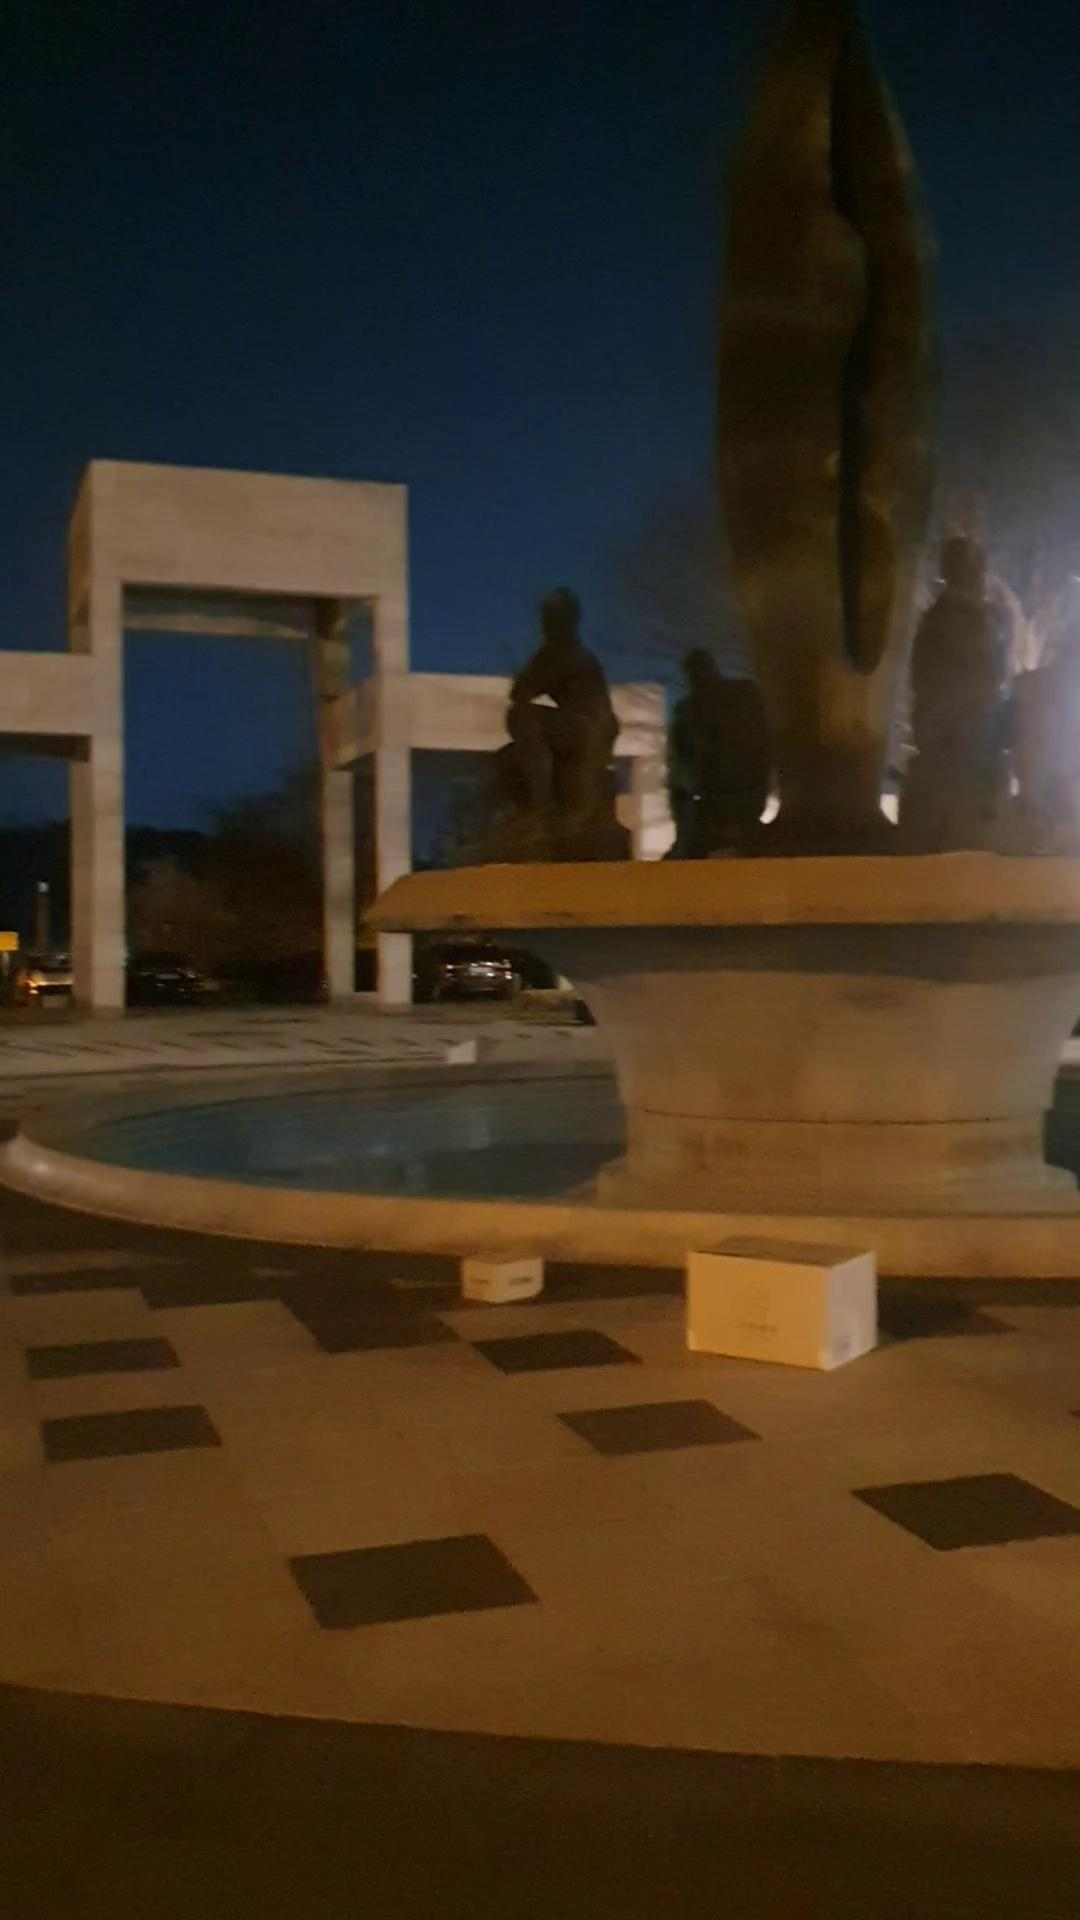Box: (676, 1222, 880, 1370), (456, 1238, 553, 1305)
